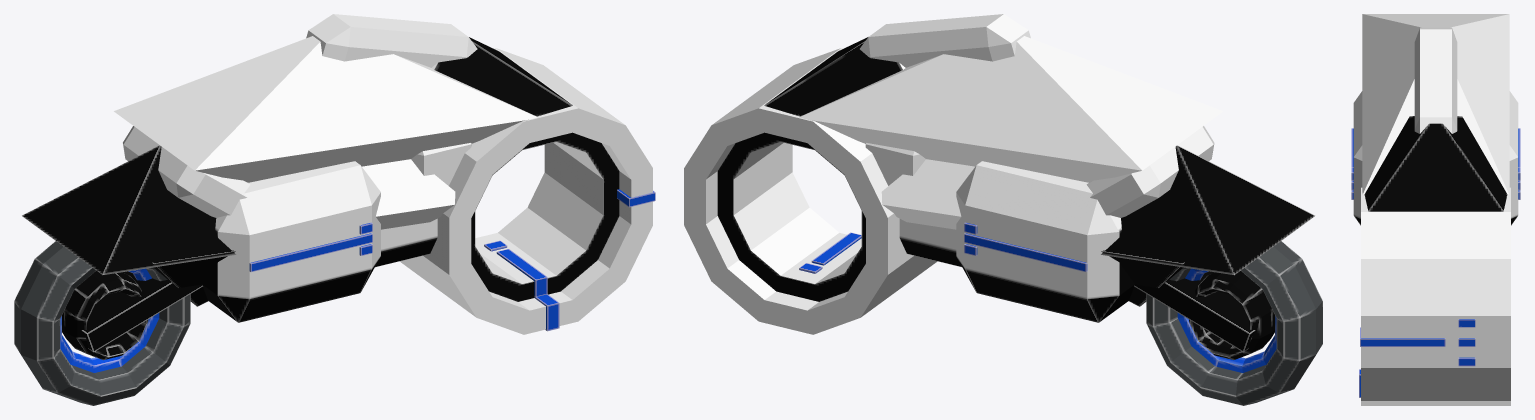
The model's file is tronbikeme2.fbx.
3 renders of one model, left to right at view 1: azimuth 30°, elevation 25°; view 2: azimuth 150°, elevation 25°; view 3: azimuth 270°, elevation 25°, orthographic. The views are drawn at different scales.
Parts seen in each view (by area): view 1: pyramid_6, tube, beveled_cuboid_4, tube_1, pyramid_5, torus, beveled_cuboid_3, pyramid_1, pyramid, beveled_cuboid, cuboid, torus_2 (+8 smaller); view 2: pyramid_6, tube, beveled_cuboid_4, tube_1, pyramid_5, torus, beveled_cuboid_3, pyramid_1, pyramid, beveled_cuboid, cuboid, torus_2 (+8 smaller); view 3: tube, pyramid_6, pyramid, beveled_cuboid_3, beveled_cuboid_4, cuboid_1, cuboid_4.
Part boxes in pixels (bbox=[...]): pyramid_6: bbox=[114, 36, 537, 170]; tube: bbox=[400, 48, 652, 334]; beveled_cuboid_4: bbox=[202, 161, 380, 322]; tube_1: bbox=[471, 132, 619, 301]; pyramid_5: bbox=[22, 145, 236, 274]; torus: bbox=[14, 241, 190, 405]; beveled_cuboid_3: bbox=[306, 14, 477, 67]; pyramid_1: bbox=[195, 119, 528, 182]; pyramid: bbox=[432, 37, 572, 116]; beveled_cuboid: bbox=[123, 126, 250, 217]; cuboid: bbox=[81, 271, 202, 352]; torus_2: bbox=[62, 271, 148, 360]; pyramid_6: bbox=[799, 36, 1223, 170]; tube: bbox=[684, 48, 937, 334]; beveled_cuboid_4: bbox=[956, 161, 1134, 322]; tube_1: bbox=[717, 132, 865, 301]; pyramid_5: bbox=[1101, 145, 1315, 275]; torus: bbox=[1146, 241, 1322, 405]; beveled_cuboid_3: bbox=[860, 14, 1030, 67]; pyramid_1: bbox=[810, 120, 1141, 182]; pyramid: bbox=[764, 37, 905, 116]; beveled_cuboid: bbox=[1086, 126, 1214, 217]; cuboid: bbox=[1134, 271, 1255, 352]; torus_2: bbox=[1189, 271, 1274, 359]; tube: bbox=[1361, 187, 1510, 405]; pyramid_6: bbox=[1362, 14, 1509, 194]; pyramid: bbox=[1364, 116, 1507, 211]; beveled_cuboid_3: bbox=[1414, 27, 1457, 133]; beveled_cuboid_4: bbox=[1353, 91, 1518, 225]; cuboid_1: bbox=[1360, 327, 1445, 346]; cuboid_4: bbox=[1458, 357, 1475, 366].
Bounding box in the file's own units: 364 × 187 × 98.75.
Materials: 1 (1 with a texture image).
